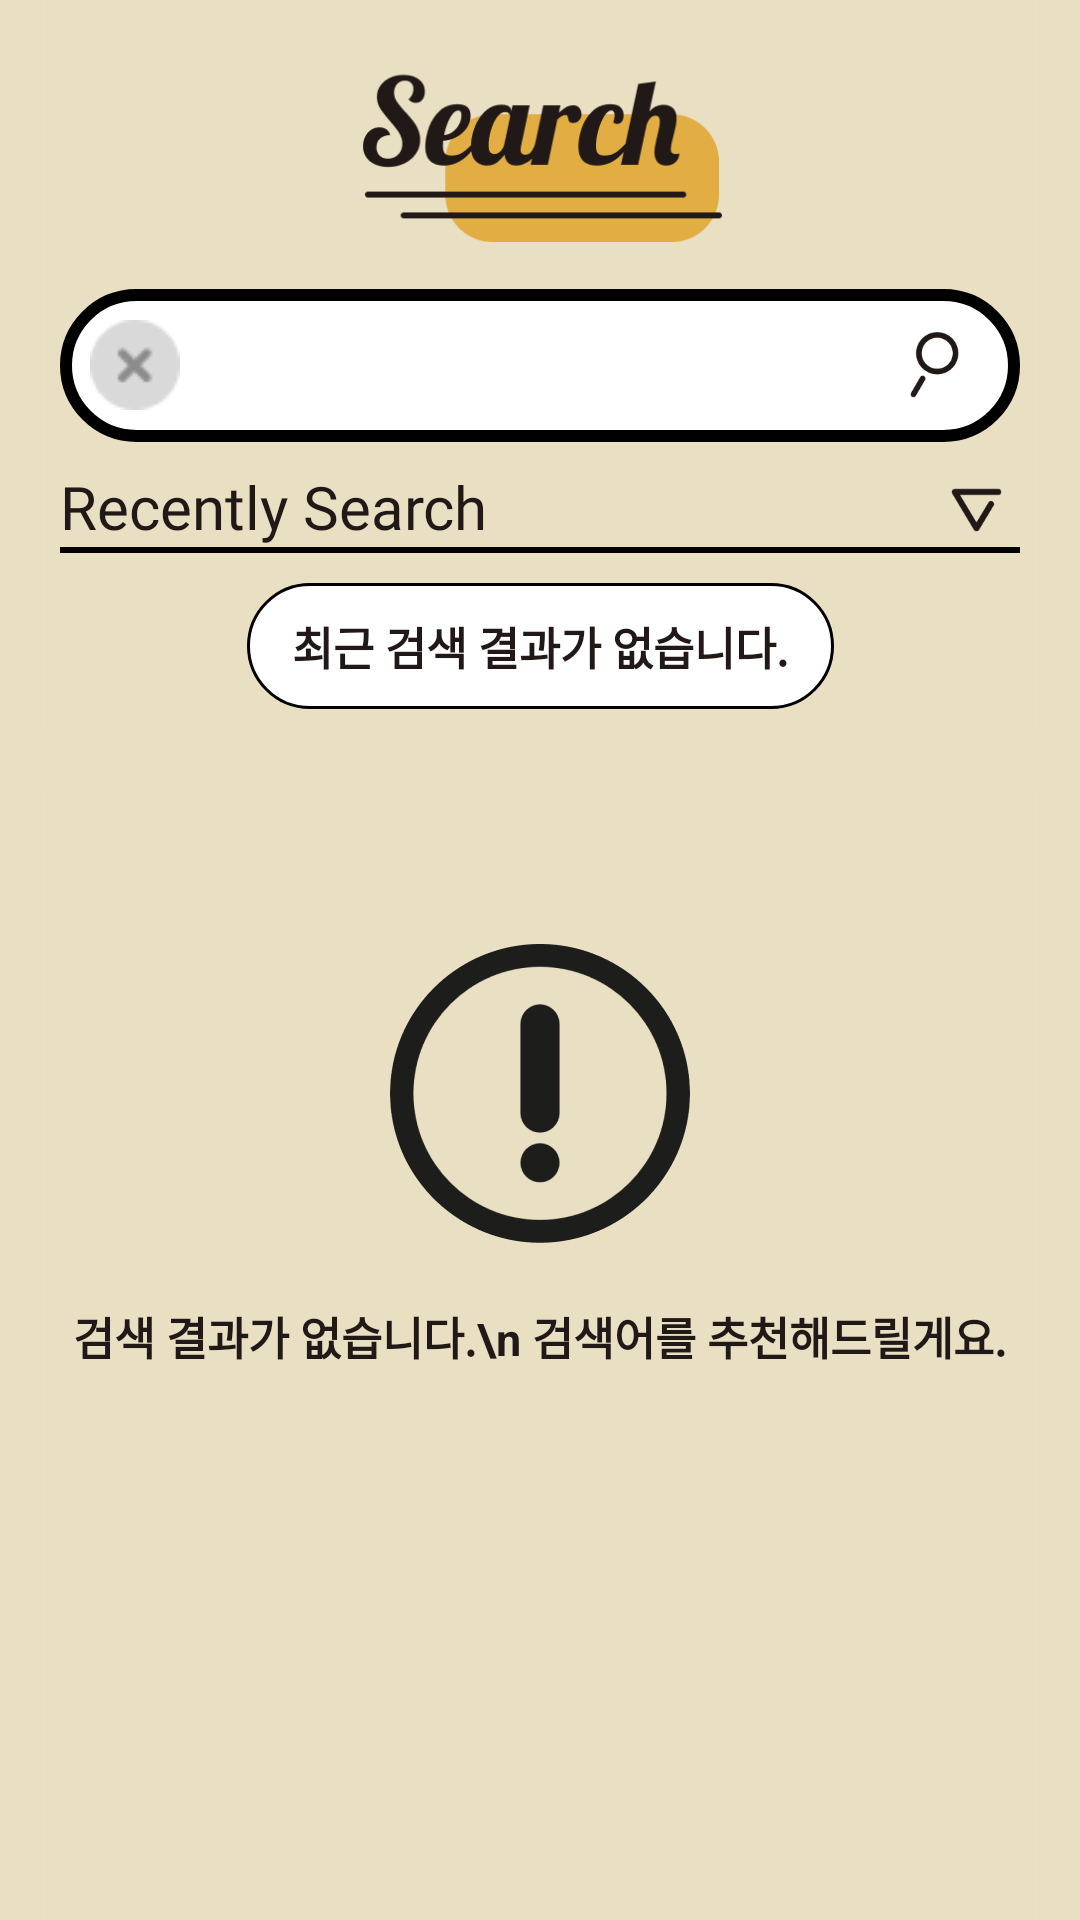

Named icons in this screenshot (1080x1920) and their bounding boxes, (x1, y1, x2, y2):
exclamation: (390, 944, 690, 1243)
